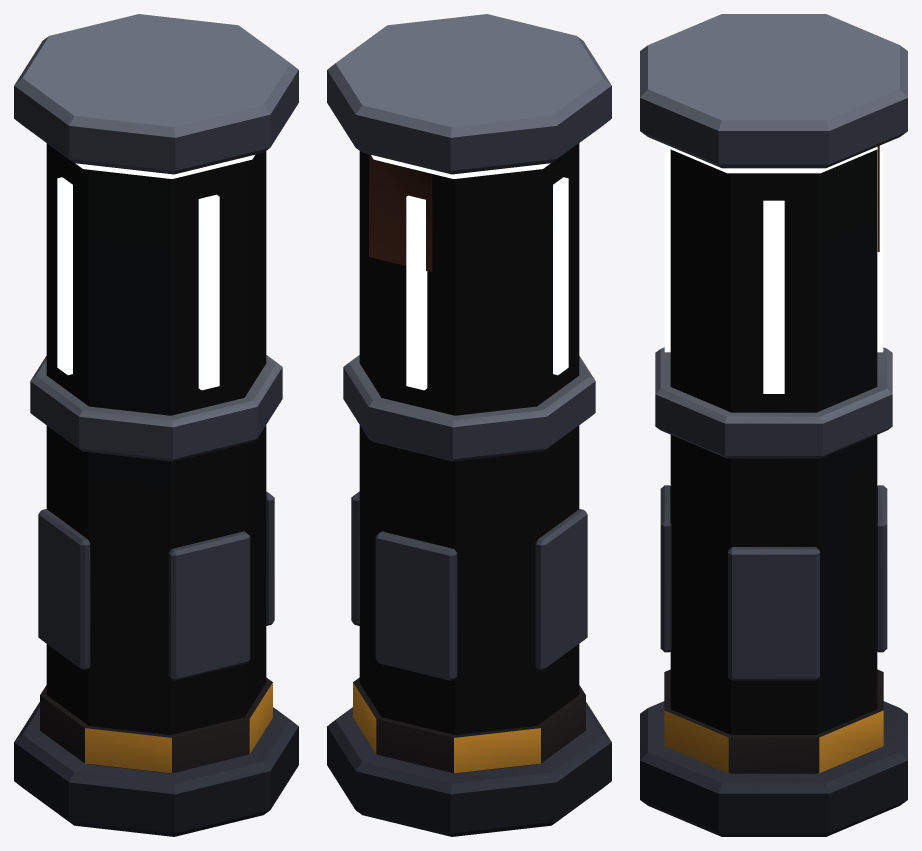
File: Pillar.glb
The picture shows the model from 3 angles, left to right: view 1: azimuth 30°, elevation 25°; view 2: azimuth 150°, elevation 25°; view 3: azimuth 270°, elevation 25°; orthographic projection.
Visible parts, largest first — view 1: Body, Ring_Glow; view 2: Body, Ring_Glow; view 3: Body, Ring_Glow.
Boxes of the visible parts, bbox=[...] form: Body: bbox=[14, 14, 298, 836]; Ring_Glow: bbox=[57, 155, 254, 390]; Body: bbox=[327, 14, 611, 836]; Ring_Glow: bbox=[371, 155, 568, 390]; Body: bbox=[640, 14, 907, 836]; Ring_Glow: bbox=[661, 143, 886, 393].
Bounding box in the file's own units: 4.07 × 12 × 4.07.
